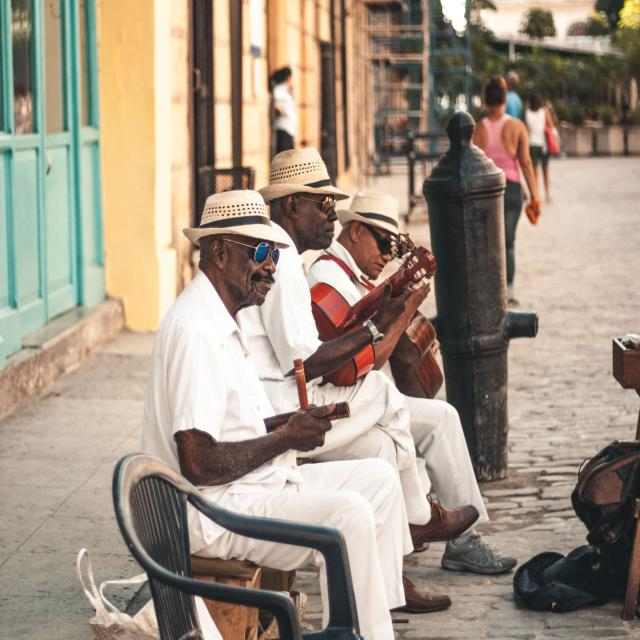adult: (150, 195, 405, 640), (230, 145, 464, 584), (315, 190, 507, 581)
